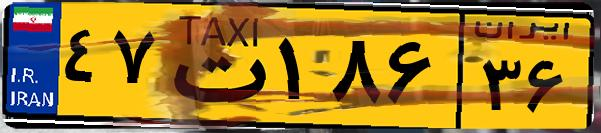1: (270, 28, 330, 110)
3: (475, 38, 525, 113)
4: (57, 26, 110, 100)
6: (385, 28, 445, 110), (525, 38, 570, 115)
7: (110, 28, 158, 98)
8: (330, 28, 385, 110)
ت: (158, 12, 270, 120)
